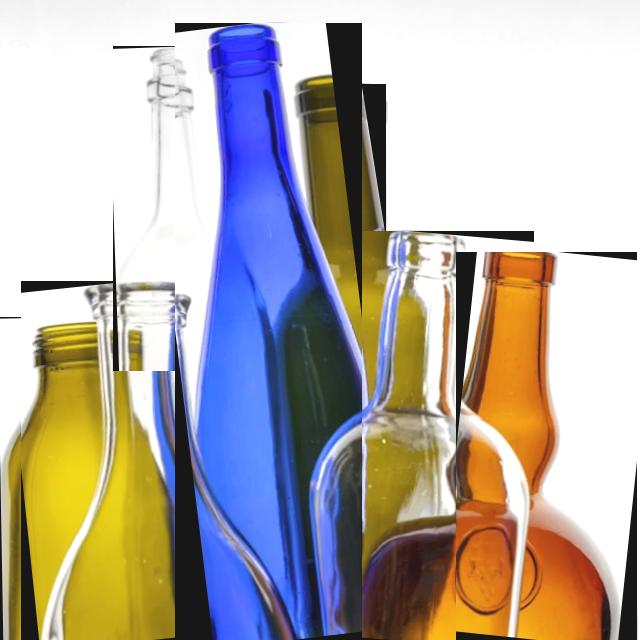Bottle: (186, 24, 361, 639), (287, 232, 534, 639), (22, 281, 254, 639), (457, 252, 636, 639), (114, 46, 225, 371), (0, 317, 110, 639), (323, 85, 386, 396)
